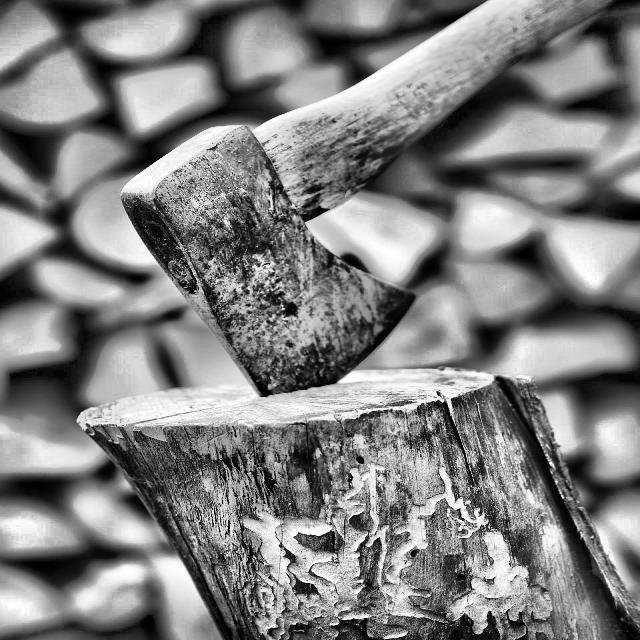kapak: (100, 1, 632, 395)
